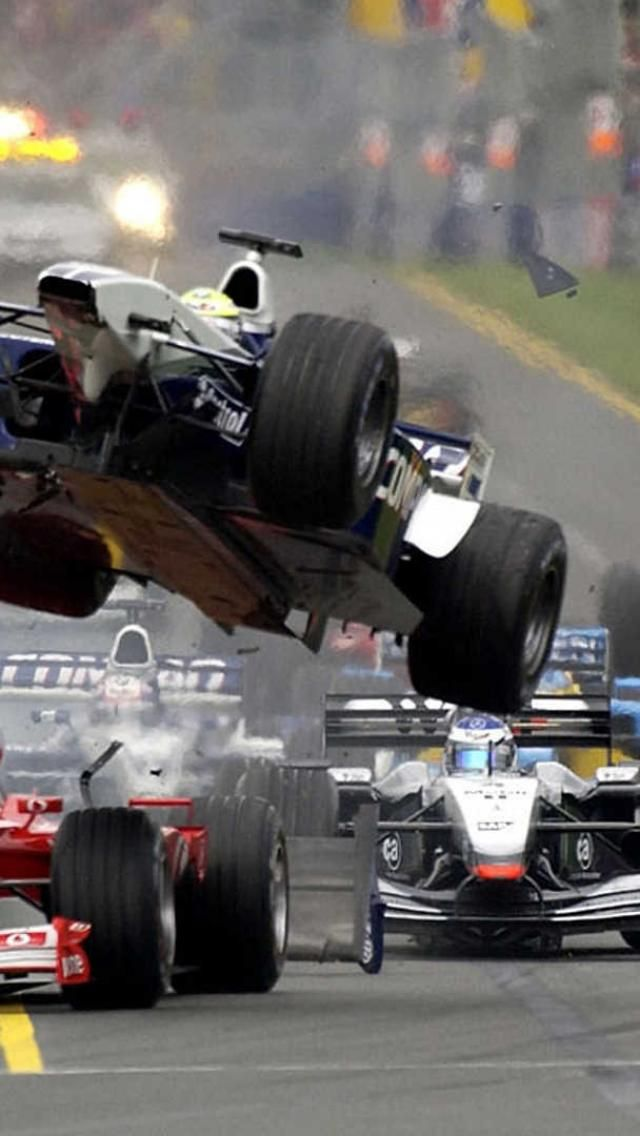f1_car: (1, 219, 587, 730), (234, 672, 638, 981)
